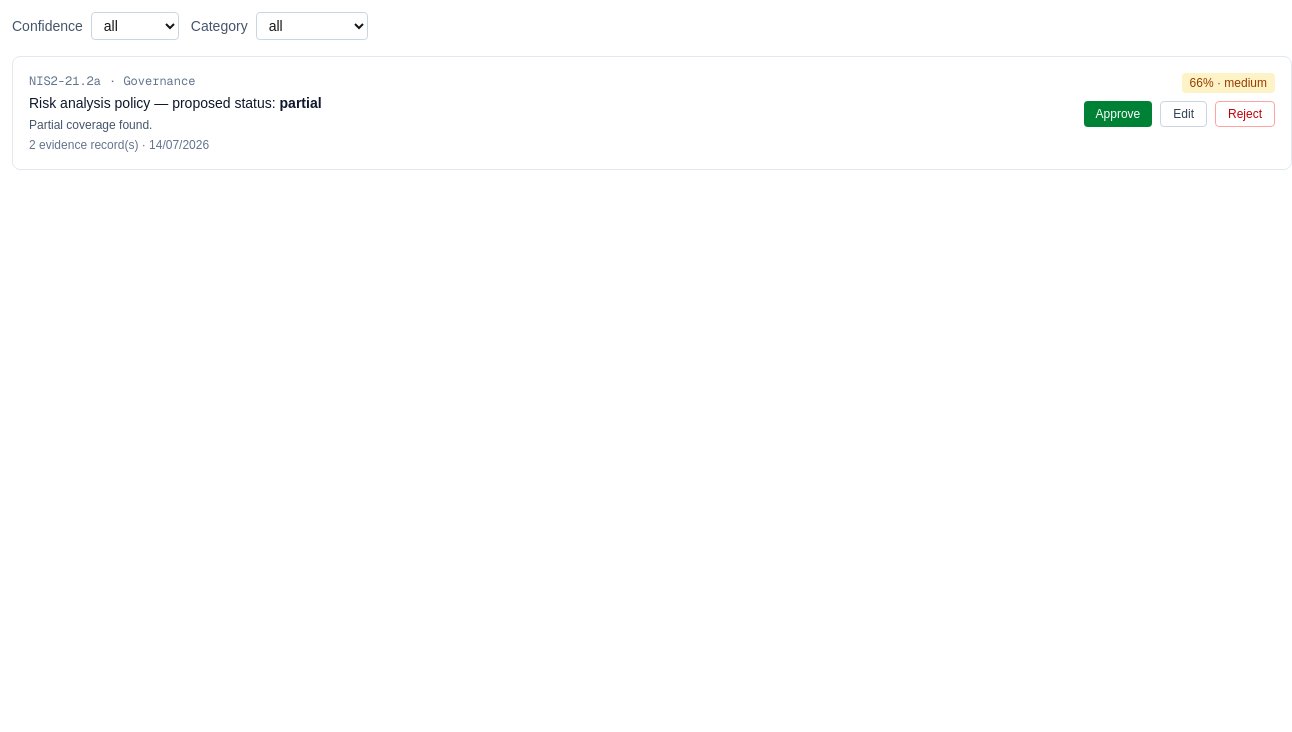
RecommendationList › a validation error with a list detail is shown as readable text
Click the button "Approve": {"x": 1118, "y": 114} [1084,101,1152,127]
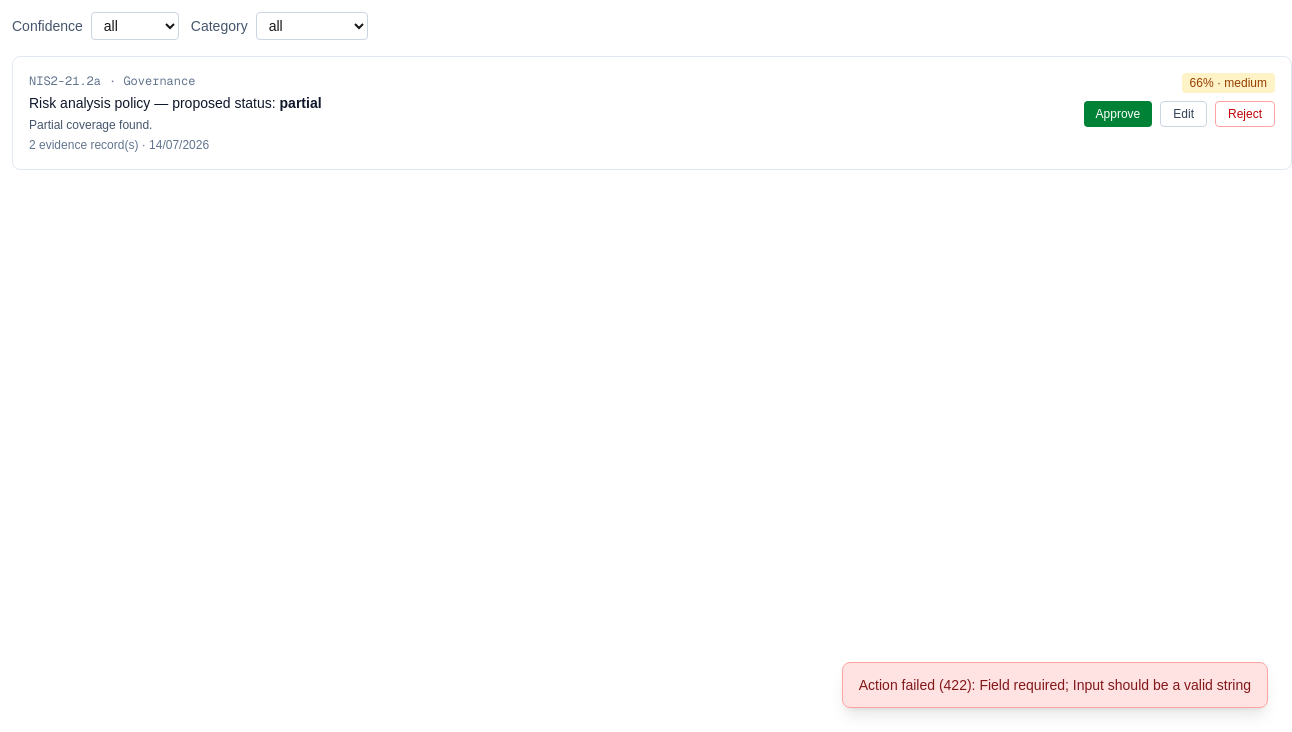
Check: the message does not show "[object Object]", box [859,677,1251,693]
Check: the message reads "Action failed (422): Field required; Input should be a valid string", box [859,677,1251,693]
